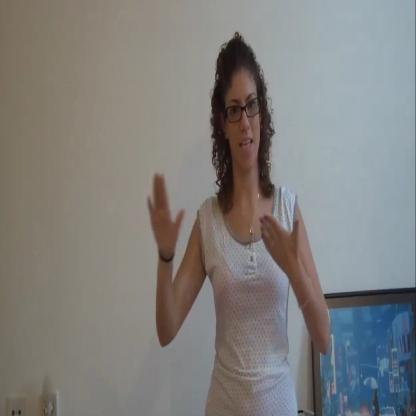NiceToMeetYou: (146, 162, 304, 296)
